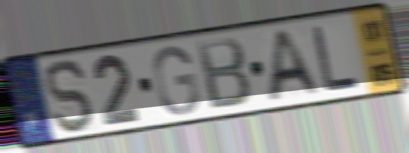2: (92, 51, 144, 130)
A: (265, 27, 324, 105)
B: (194, 34, 254, 113)
G: (151, 44, 202, 118)
L: (309, 23, 362, 95)
S: (44, 57, 98, 135)
